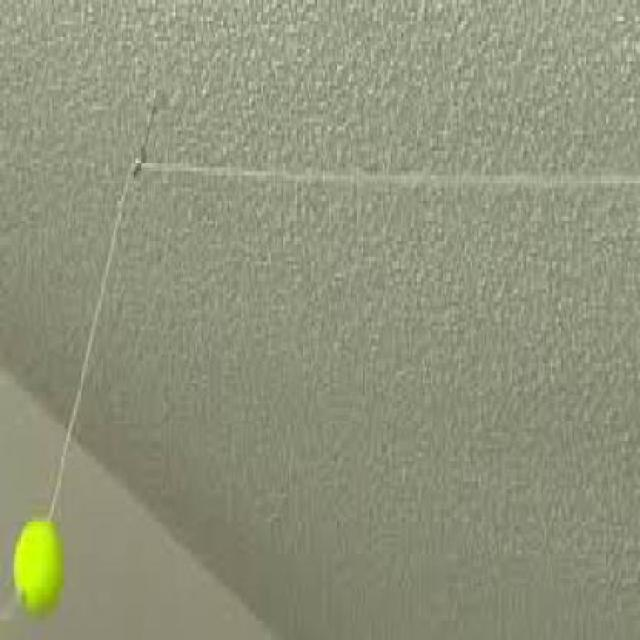Tennis_Ball: (6, 520, 65, 602)
